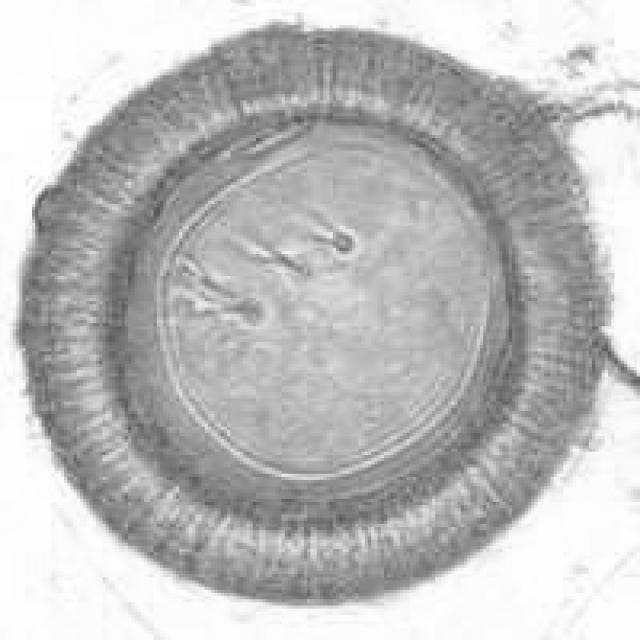Taenia Sp: (11, 12, 619, 615)
